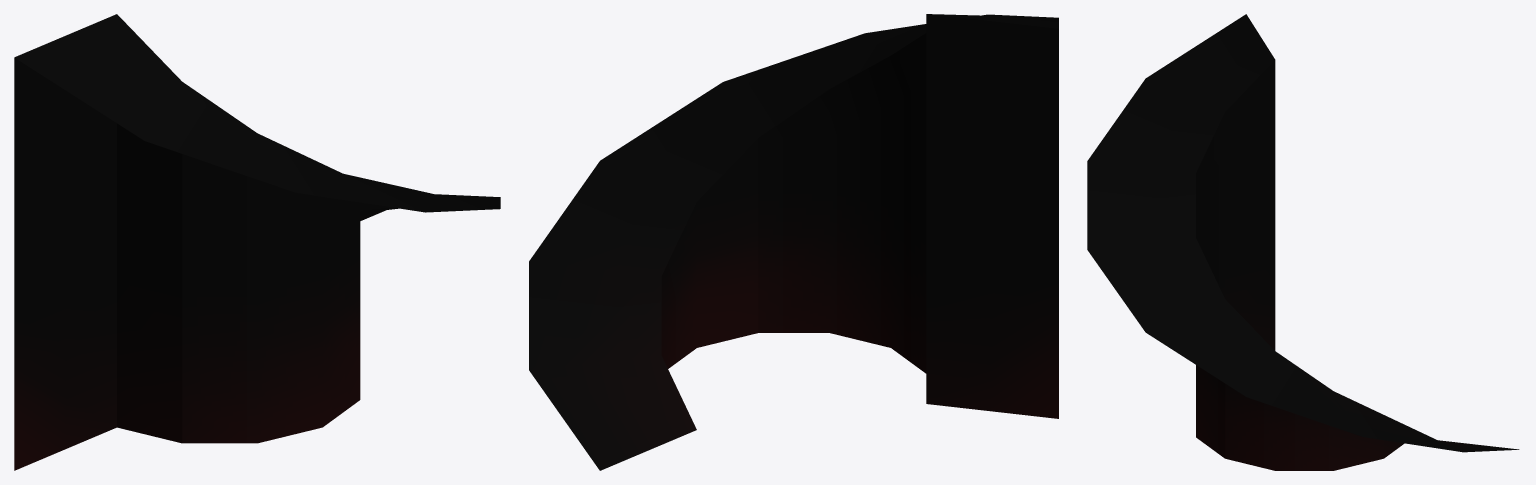
The model's file is CaveTowerRamp.obj.
3 renders of one model, left to right at view 1: azimuth 30°, elevation 25°; view 2: azimuth 150°, elevation 25°; view 3: azimuth 270°, elevation 25°, orthographic. The views are drawn at different scales.
Parts seen in each view (by area): view 1: Ramp; view 2: Ramp; view 3: Ramp.
Part boxes in pixels (bbox=[...]): Ramp: bbox=[14, 14, 500, 470]; Ramp: bbox=[529, 14, 1058, 470]; Ramp: bbox=[1087, 14, 1519, 470].
Bounding box in the file's own units: 4.93 × 4 × 4.93.
